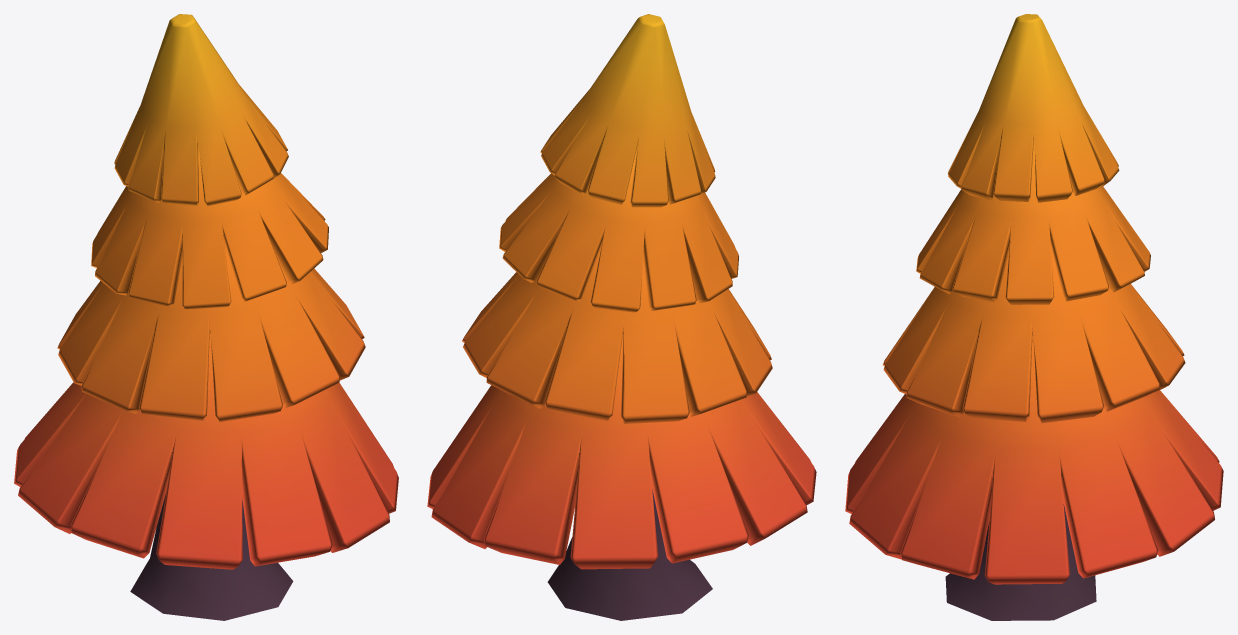
The model's file is prop_environment_tree01_3.fbx.
The picture shows the model from 3 angles, left to right: view 1: azimuth 30°, elevation 25°; view 2: azimuth 150°, elevation 25°; view 3: azimuth 270°, elevation 25°; orthographic projection. The views are drawn at different scales.
Parts seen in each view (by area): view 1: prop_environment_tree01_3; view 2: prop_environment_tree01_3; view 3: prop_environment_tree01_3.
Boxes of the visible parts, left/top/right/bottom form: prop_environment_tree01_3: left=14, top=14, right=398, bottom=620; prop_environment_tree01_3: left=427, top=14, right=816, bottom=620; prop_environment_tree01_3: left=845, top=14, right=1223, bottom=620.
Bounding box in the file's own units: 321 × 522 × 319.
Materials: 1 (1 with a texture image).
